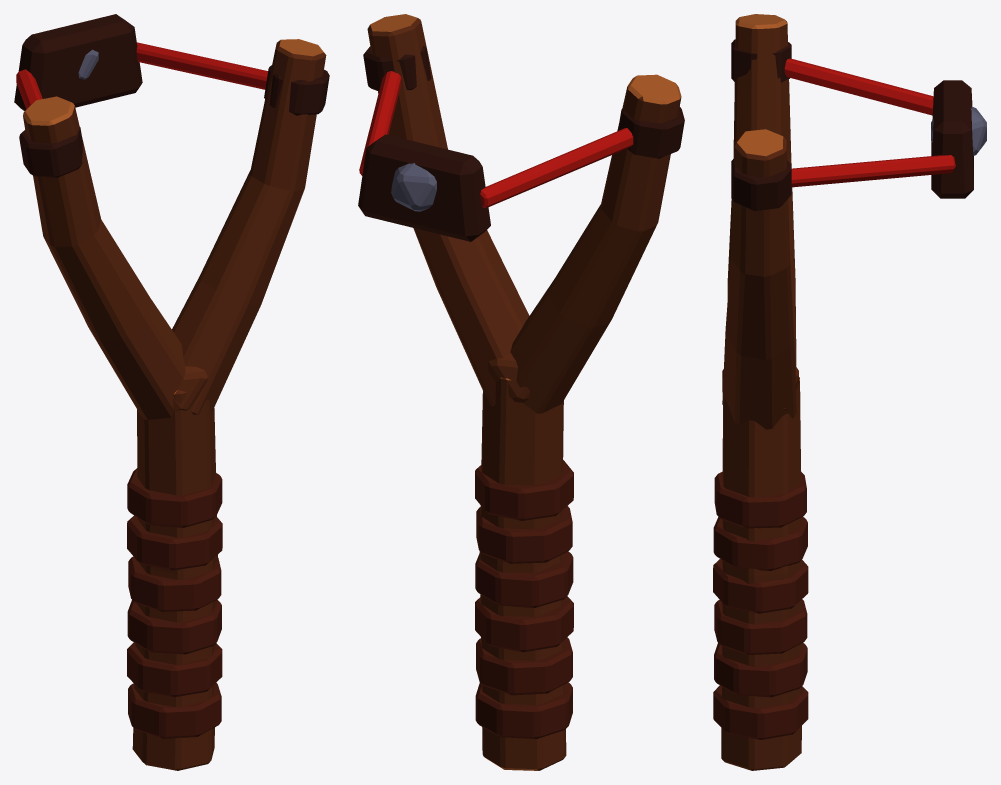
File: myw_slingshot.obj
3 renders of one model, left to right at view 1: azimuth 30°, elevation 25°; view 2: azimuth 150°, elevation 25°; view 3: azimuth 270°, elevation 25°, orthographic. The views are drawn at different scales.
Parts seen in each view (by area): view 1: Frame, Grip, Pouch, Band_R, Band_L; view 2: Frame, Grip, Pouch, Band_L, Stone, Band_R; view 3: Frame, Grip, Pouch, Band_R, Band_L, Stone.
Part boxes in pixels (left/top/right/bottom): Frame: left=19, top=39, right=329, bottom=770; Grip: left=127, top=468, right=222, bottom=738; Pouch: left=14, top=14, right=142, bottom=111; Band_R: left=136, top=42, right=267, bottom=89; Band_L: left=16, top=69, right=42, bottom=109; Frame: left=363, top=14, right=684, bottom=770; Grip: left=475, top=460, right=573, bottom=739; Pouch: left=358, top=134, right=490, bottom=241; Band_L: left=480, top=128, right=633, bottom=207; Stone: left=391, top=163, right=436, bottom=211; Band_R: left=359, top=71, right=401, bottom=175; Frame: left=721, top=14, right=801, bottom=770; Grip: left=713, top=471, right=808, bottom=739; Pouch: left=931, top=80, right=973, bottom=198; Band_R: left=791, top=155, right=955, bottom=187; Band_L: left=784, top=58, right=933, bottom=115; Stone: left=931, top=106, right=986, bottom=155.
Size of the model in its own units: 1.12 by 2.42 by 0.8837.
